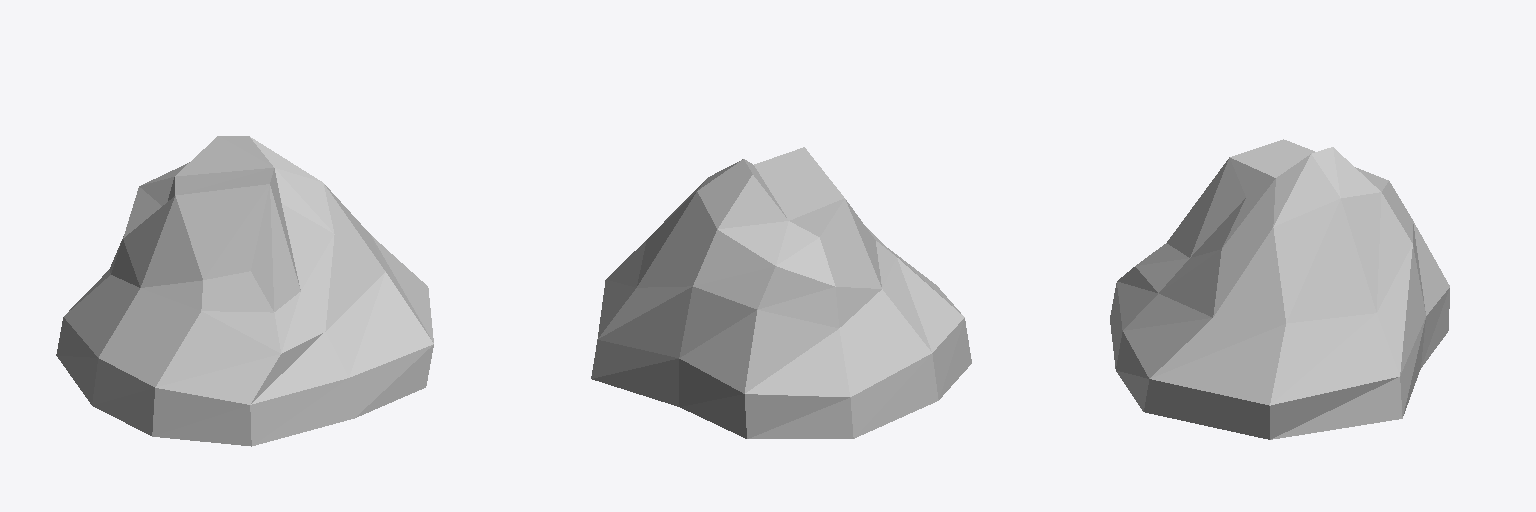
The model's file is Rock3.obj.
3 renders of one model, left to right at view 1: azimuth 30°, elevation 25°; view 2: azimuth 150°, elevation 25°; view 3: azimuth 270°, elevation 25°, orthographic.
Visible parts, largest first — view 1: pasted__pasted__pSphere2 pasted__pasted__pSphere1SmoothProxyGrou; view 2: pasted__pasted__pSphere2 pasted__pasted__pSphere1SmoothProxyGrou; view 3: pasted__pasted__pSphere2 pasted__pasted__pSphere1SmoothProxyGrou.
Part boxes in pixels (left/top/right/bottom): pasted__pasted__pSphere2 pasted__pasted__pSphere1SmoothProxyGrou: left=56, top=136, right=433, bottom=446; pasted__pasted__pSphere2 pasted__pasted__pSphere1SmoothProxyGrou: left=591, top=147, right=971, bottom=438; pasted__pasted__pSphere2 pasted__pasted__pSphere1SmoothProxyGrou: left=1110, top=139, right=1449, bottom=439.
Size of the model in its own units: 10.11 by 6.14 by 8.9.